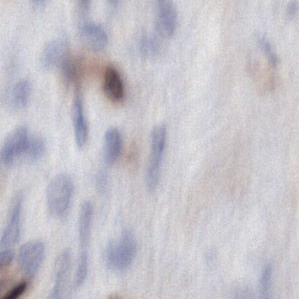Lymphocyte: (104, 69, 126, 100)
